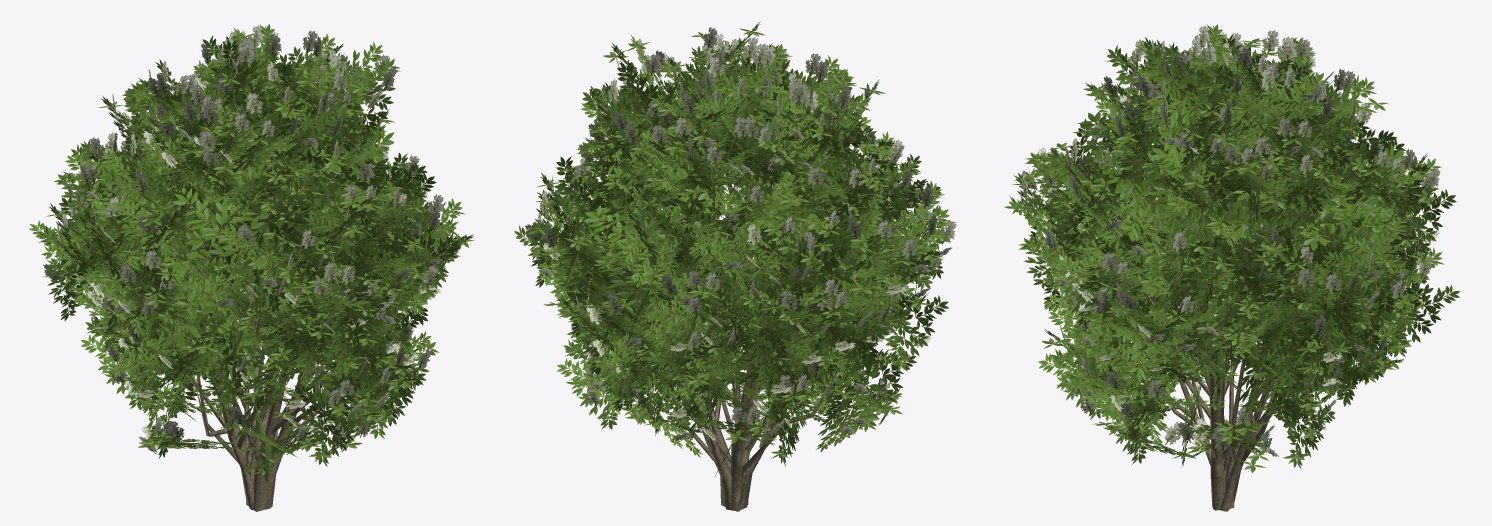
File: Ligustrum_Ovalifolium_Autumn_Young.glb
3 views of the same model, side by side, from view 1: azimuth 30°, elevation 25°; view 2: azimuth 150°, elevation 25°; view 3: azimuth 270°, elevation 25° (orthographic).
Parts seen in each view (by area): view 1: Ligustrum_Ovalifolium_Autumn_Young__LOD3; view 2: Ligustrum_Ovalifolium_Autumn_Young__LOD3; view 3: Ligustrum_Ovalifolium_Autumn_Young__LOD3.
Boxes of the visible parts, x1,y1,x2,y2 form: Ligustrum_Ovalifolium_Autumn_Young__LOD3: [29, 24, 474, 511]; Ligustrum_Ovalifolium_Autumn_Young__LOD3: [514, 21, 956, 511]; Ligustrum_Ovalifolium_Autumn_Young__LOD3: [1004, 24, 1460, 511].
Size of the model in its own units: 1.68 by 1.92 by 1.77.
3 materials, 3 textured.
